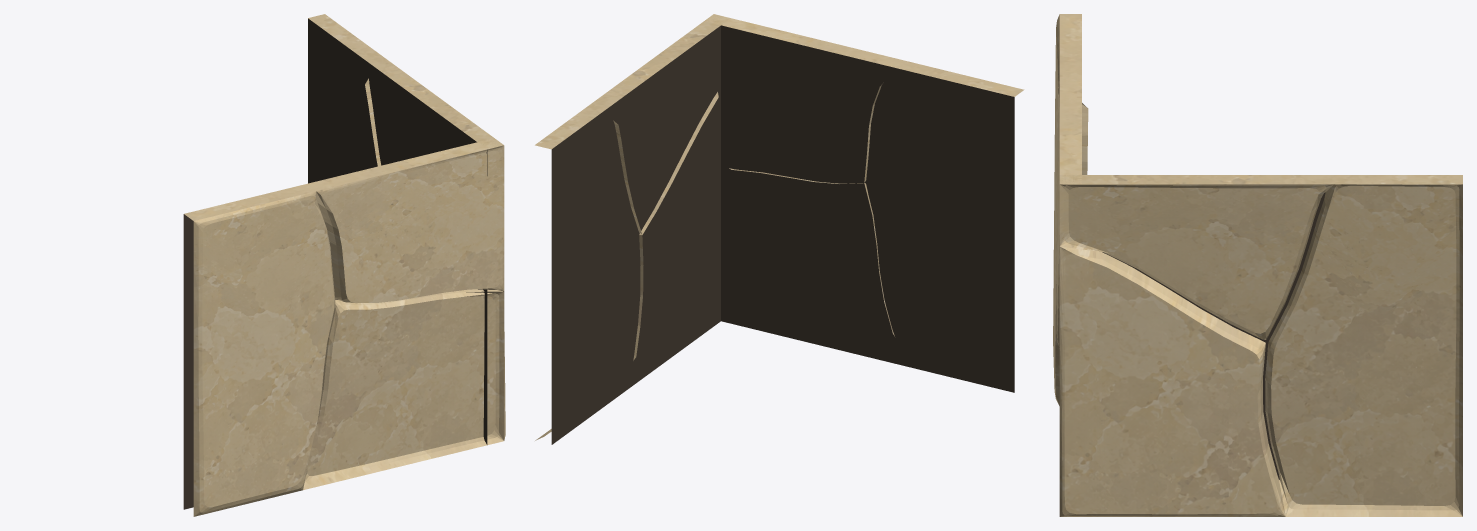
Rendered from ground_corner_03.glb.
3 views of the same model, side by side, from view 1: azimuth 30°, elevation 25°; view 2: azimuth 150°, elevation 25°; view 3: azimuth 270°, elevation 25° (orthographic). The views are drawn at different scales.
Parts seen in each view (by area): view 1: GroundCorner03_Body; view 2: GroundCorner03_Body; view 3: GroundCorner03_Body.
Part boxes in pixels (x1,y1,x2,y2): GroundCorner03_Body: (183,14,505,516); GroundCorner03_Body: (535,14,1024,444); GroundCorner03_Body: (1053,14,1462,516).
Size of the model in its own units: 1.01 by 0.91 by 1.02.
8 materials, 7 textured.
